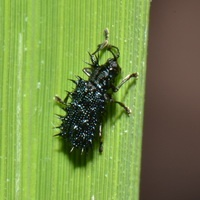insect: (55, 29, 138, 154)
